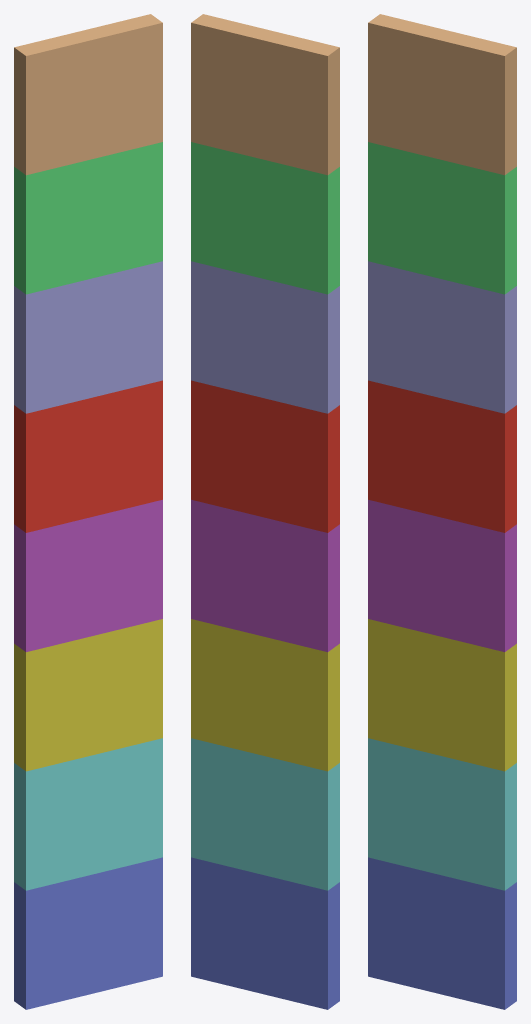
File: BallPlane.fbx
3 renders of one model, left to right at view 1: azimuth 30°, elevation 25°; view 2: azimuth 150°, elevation 25°; view 3: azimuth 330°, elevation 25°, orthographic.
Parts seen in each view (by area): view 1: Cube.001; view 2: Cube.001; view 3: Cube.001.
Boxes of the visible parts, <box> form: Cube.001: <box>14,14,162,1009</box>; Cube.001: <box>191,14,339,1009</box>; Cube.001: <box>368,14,516,1009</box>.
Bounding box in the file's own units: 90.02 × 600 × 13.64.
